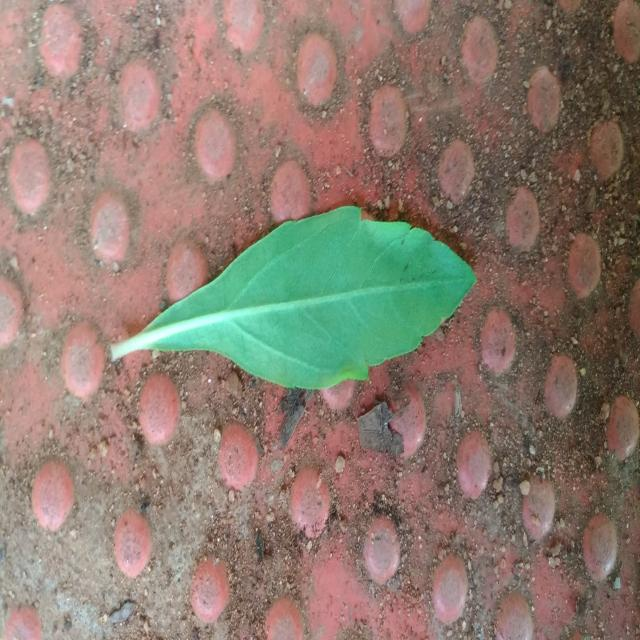bringaraja: (111, 207, 476, 389)
